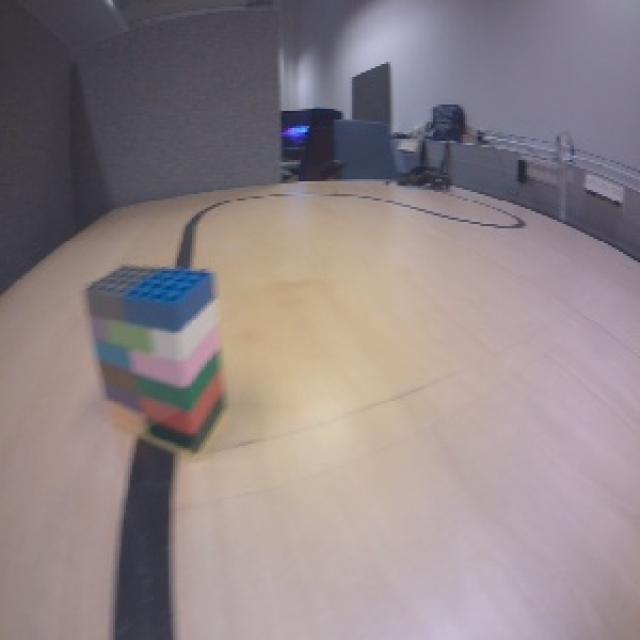obstacle: (82, 261, 235, 468)
